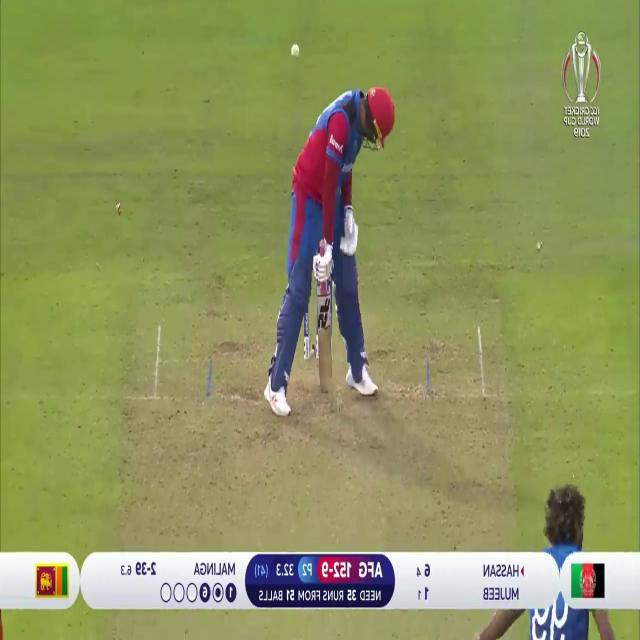ball: (286, 40, 302, 62)
